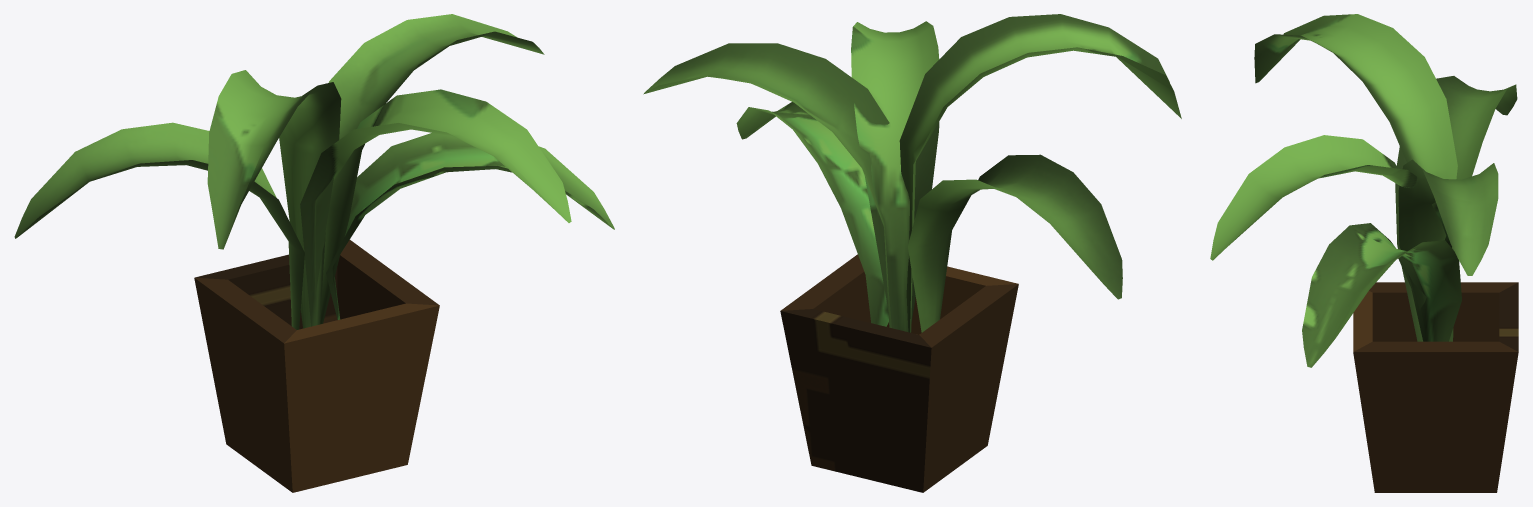
Rendered from Tx_prop_plant_4.fbx.
The picture shows the model from 3 angles, left to right: view 1: azimuth 30°, elevation 25°; view 2: azimuth 150°, elevation 25°; view 3: azimuth 270°, elevation 25°; orthographic projection. The views are drawn at different scales.
Parts seen in each view (by area): view 1: Tx_prop_plant_10; view 2: Tx_prop_plant_10; view 3: Tx_prop_plant_10.
Part boxes in pixels (box(x1,y1,x2,y2)): Tx_prop_plant_10: box(14, 14, 614, 492); Tx_prop_plant_10: box(643, 14, 1181, 492); Tx_prop_plant_10: box(1210, 14, 1518, 492).
Size of the model in its own units: 6.82 by 5.42 by 3.88.
Materials: 1 (1 with a texture image).
